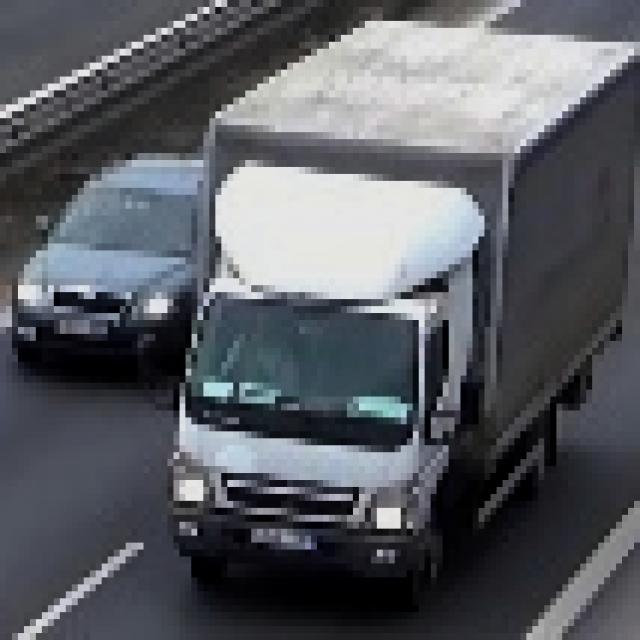truck: (163, 8, 635, 606)
